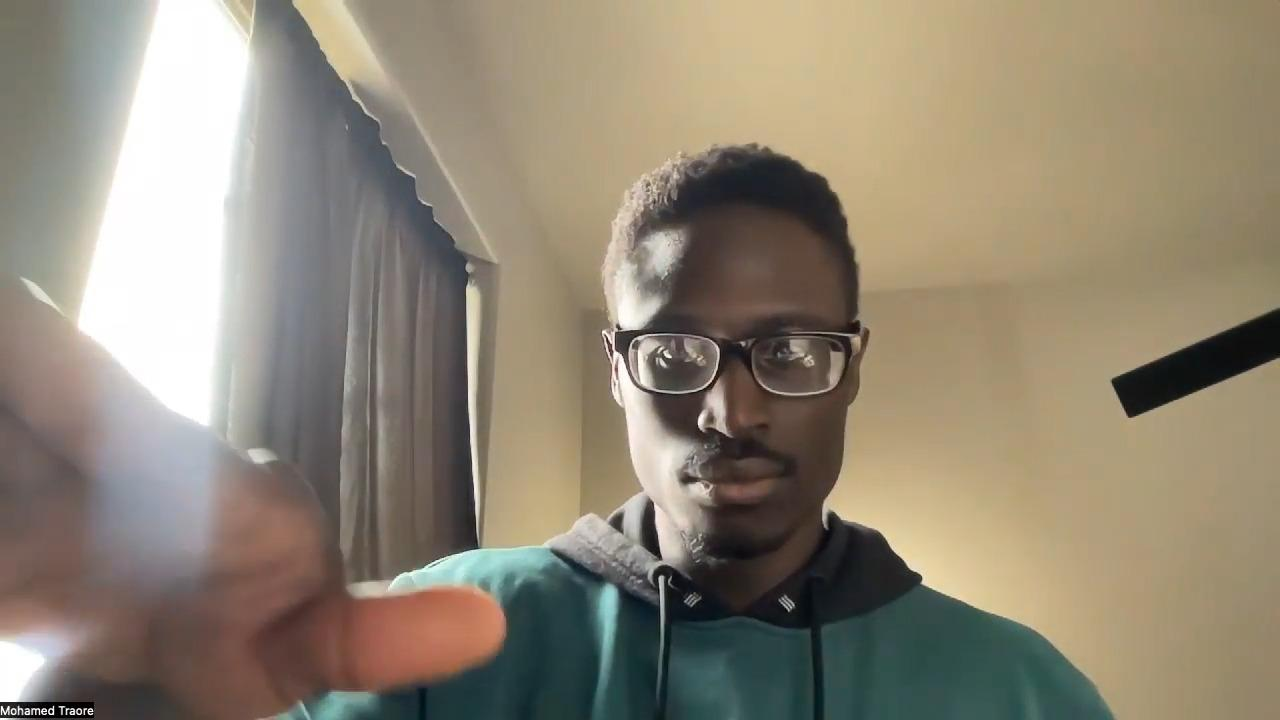Paper: (0, 268, 505, 720)
